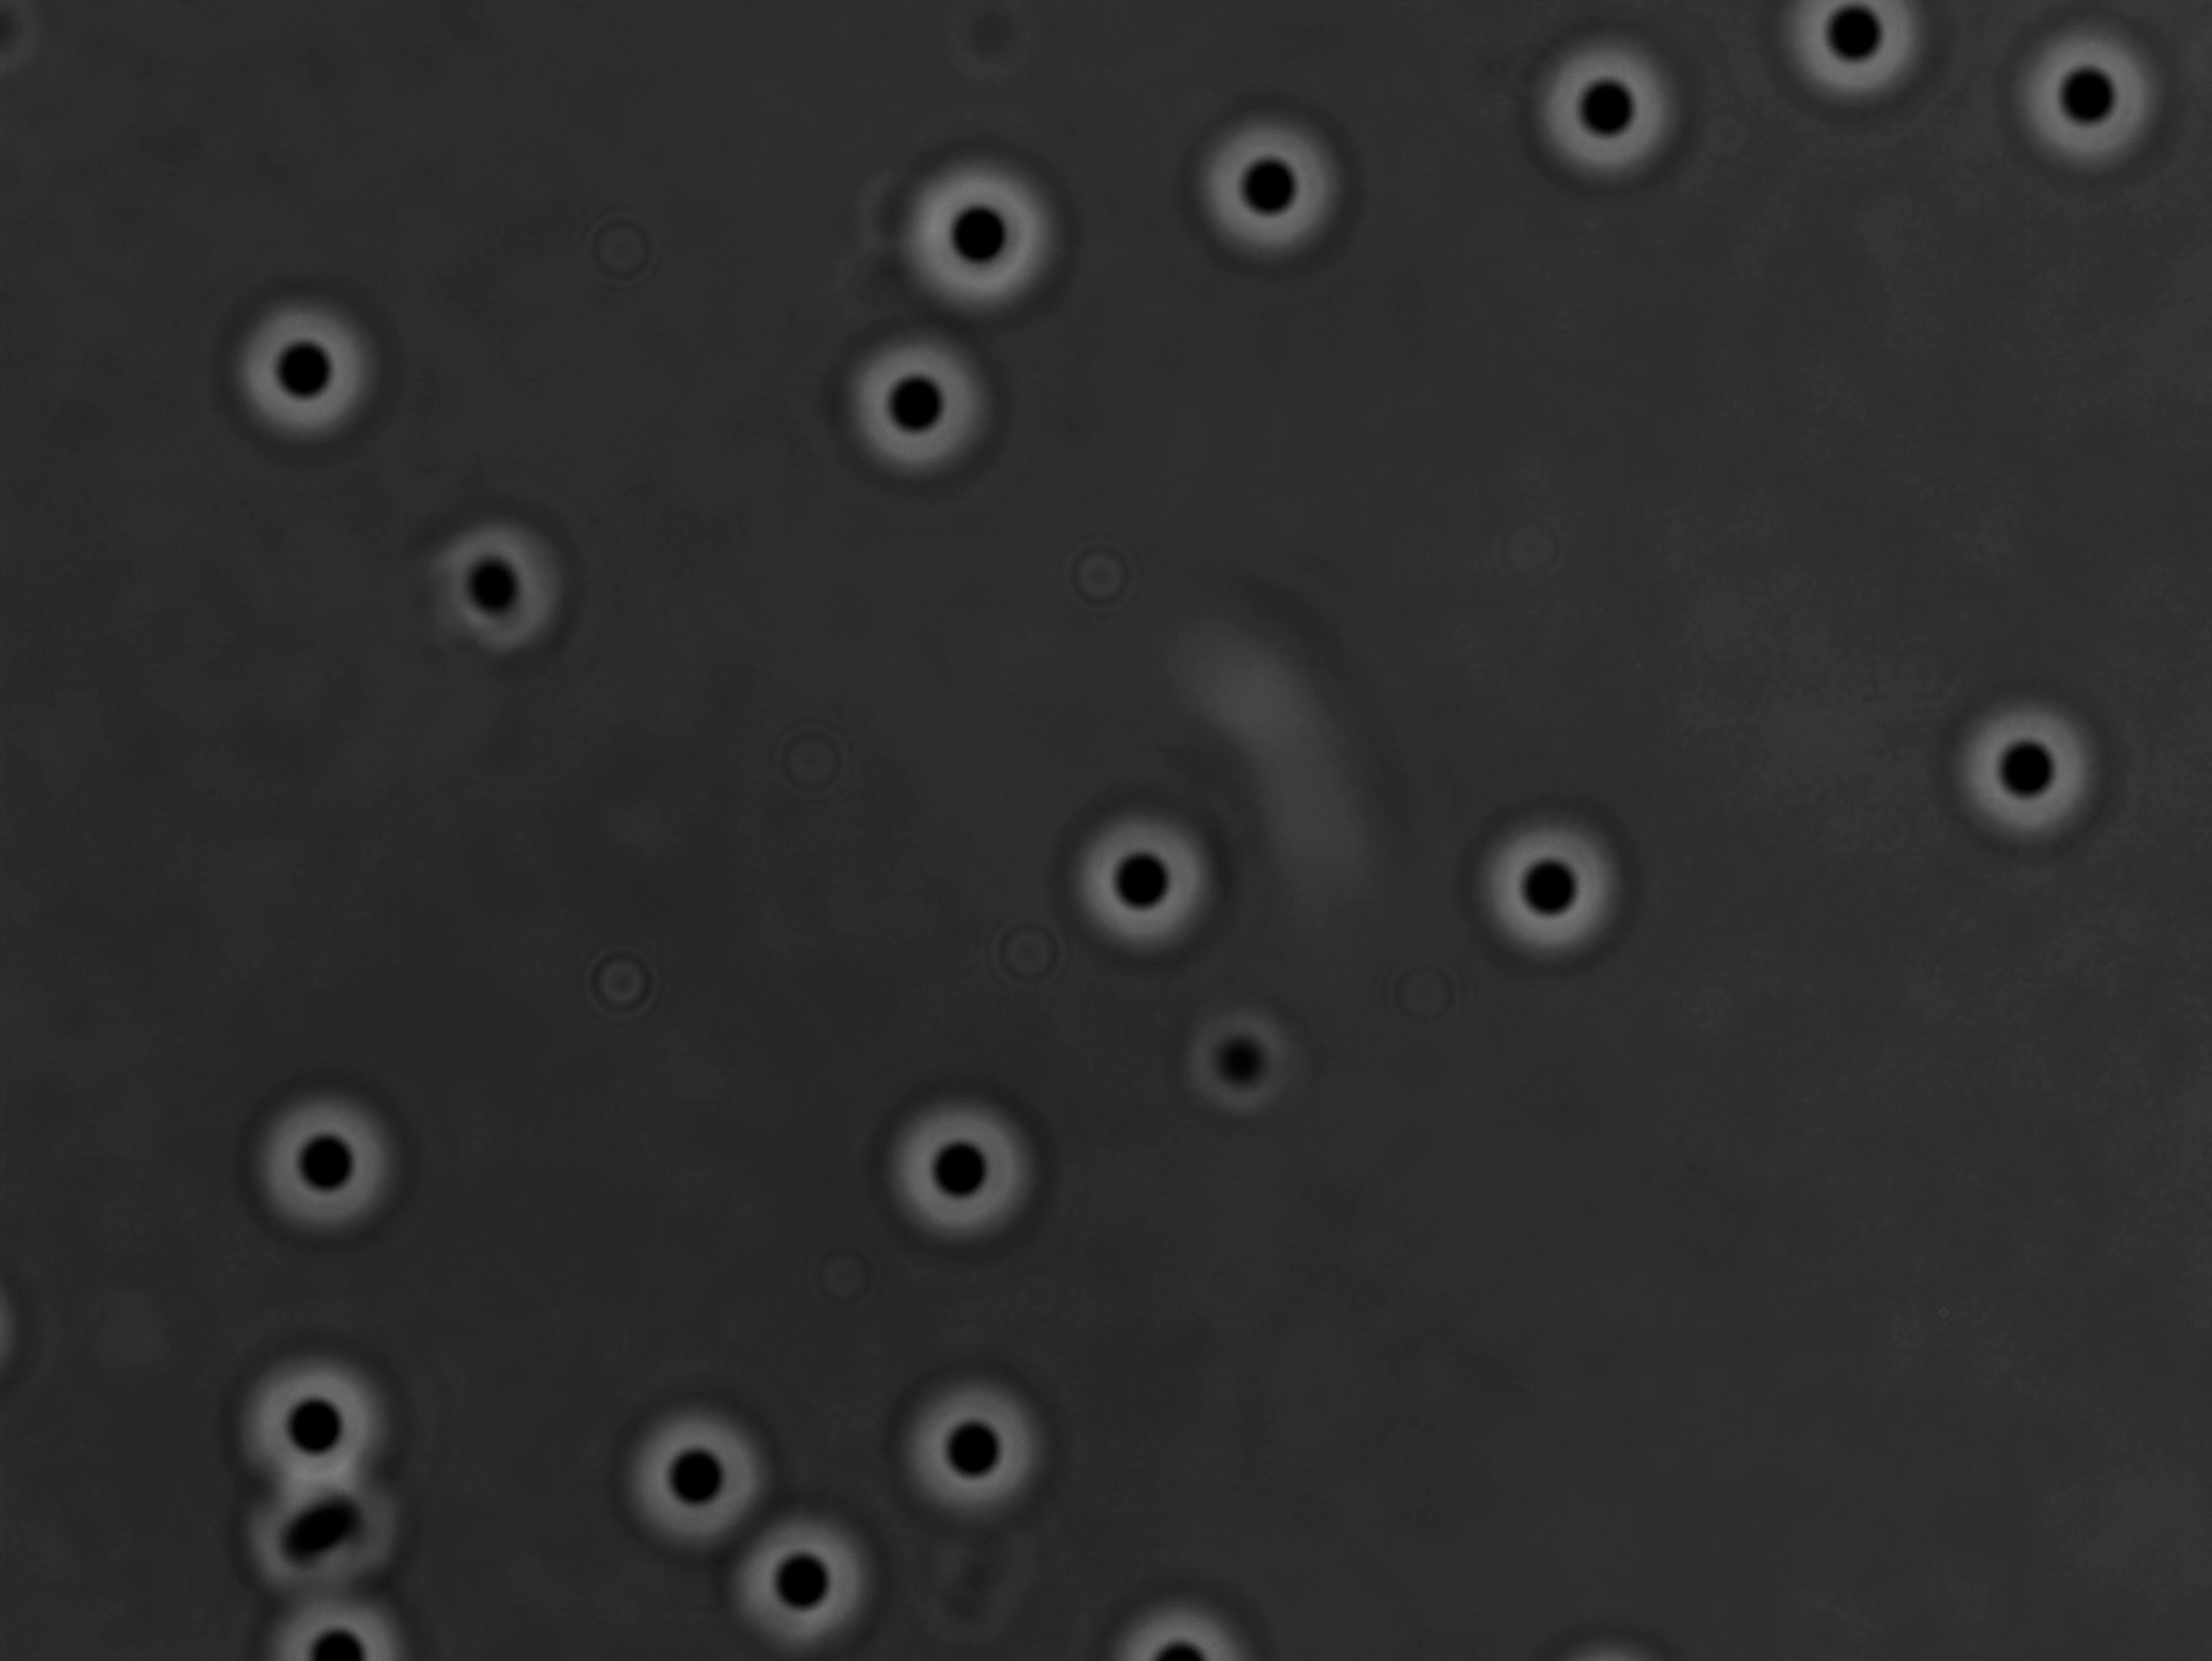depth:-40: (1054, 787, 1233, 968), (827, 330, 1010, 508), (872, 1364, 1062, 1535), (234, 1068, 415, 1246), (1994, 26, 2181, 192), (616, 1389, 801, 1553), (1943, 680, 2120, 850), (888, 162, 1068, 328), (877, 1090, 1043, 1265), (232, 281, 389, 462), (1471, 817, 1633, 982), (1521, 40, 1682, 208), (1181, 115, 1338, 281), (242, 1345, 410, 1500), (726, 1506, 891, 1661)
